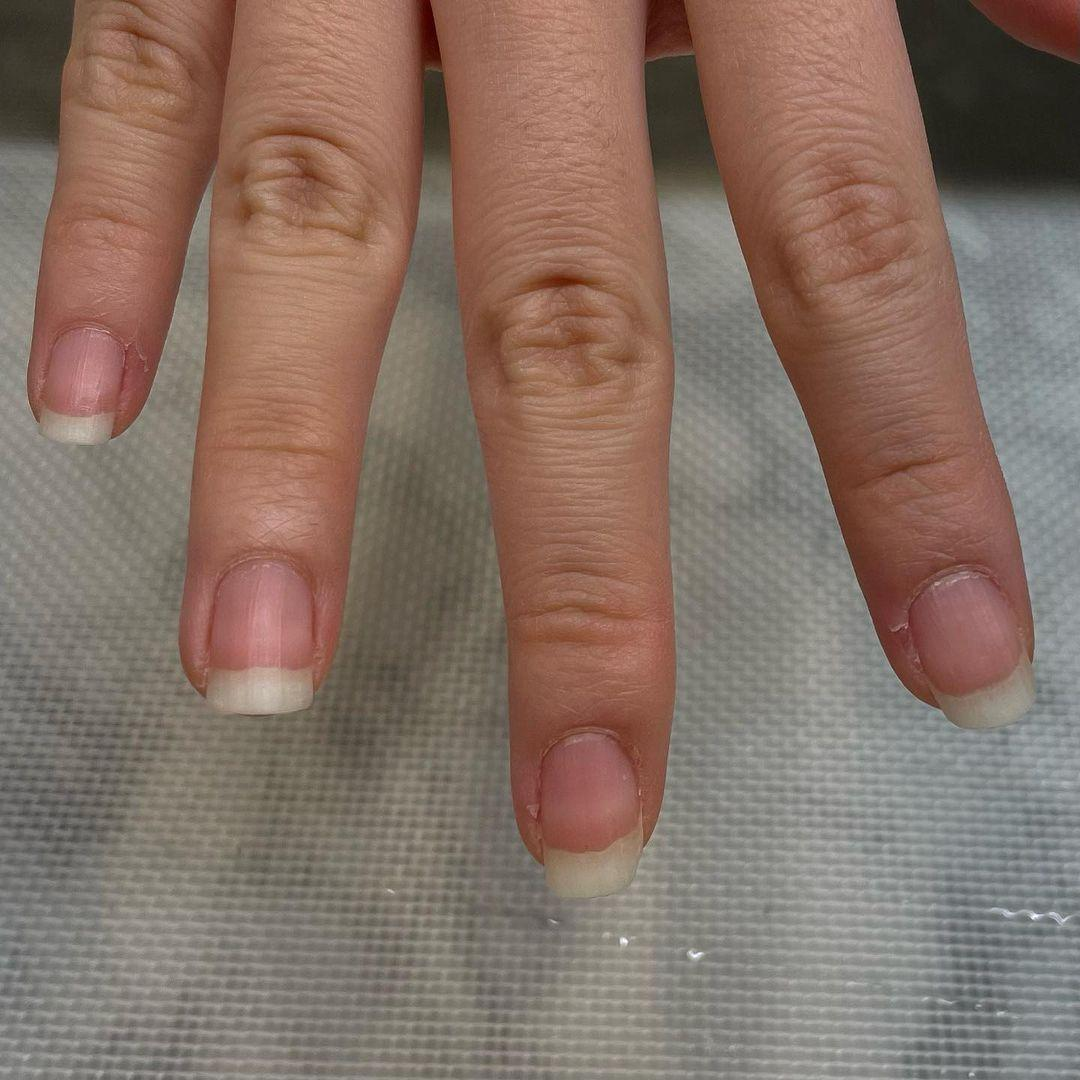nail: (905, 563, 1036, 730), (202, 554, 319, 716), (535, 725, 644, 898), (34, 320, 128, 445)
